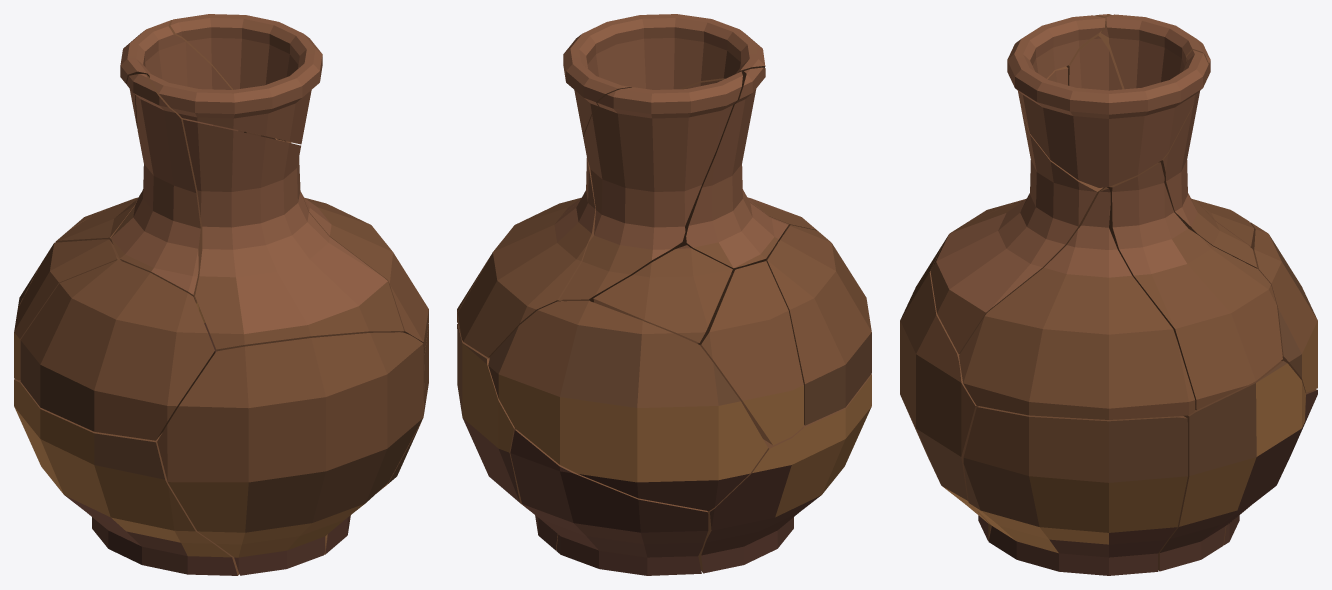
Rendered from fractured_vase_002.glb.
The picture shows the model from 3 angles, left to right: view 1: azimuth 30°, elevation 25°; view 2: azimuth 150°, elevation 25°; view 3: azimuth 270°, elevation 25°; orthographic projection.
Parts seen in each view (by area): view 1: Vase.002_cell; view 2: Vase.002_cell; view 3: Vase.002_cell.
Boxes of the visible parts, box(x1,y1,x2,y2) form: Vase.002_cell: box(14, 14, 428, 575); Vase.002_cell: box(457, 14, 871, 575); Vase.002_cell: box(900, 14, 1317, 575).
Bounding box in the file's own units: 0.2028 × 0.25 × 0.2028.
